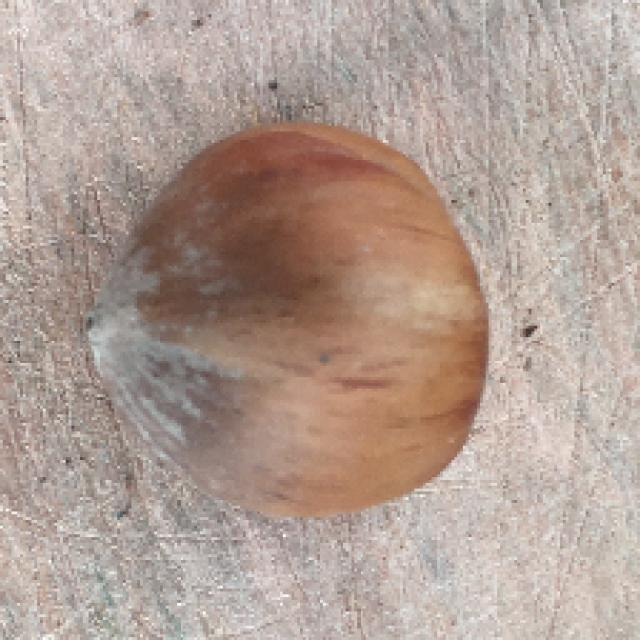damagedHazelnut: (62, 111, 505, 520)
